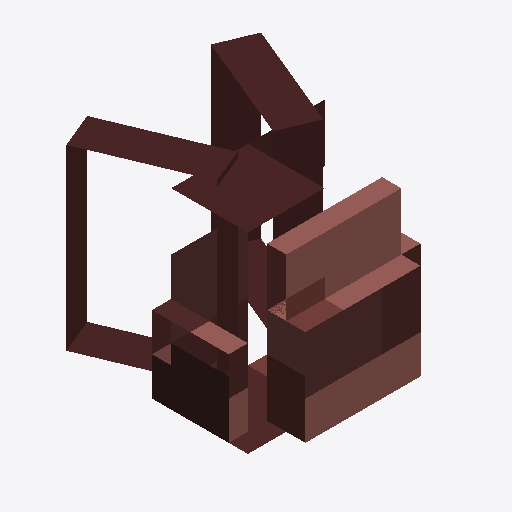
Isometric view (azimuth 45°, elevation 35.3°) of a Minecraft model made of 7 cuboids, textured from the same repository.
Parts seen in each view (by area): element 6, element 1, element 3, element 2, element 7, element 4.
Part boxes in pixels (left/top/right/bottom): element 6: left=267, top=255, right=420, bottom=442; element 1: left=66, top=116, right=237, bottom=374; element 3: left=171, top=100, right=324, bottom=453; element 2: left=211, top=33, right=322, bottom=327; element 7: left=267, top=177, right=400, bottom=320; element 4: left=152, top=299, right=247, bottom=442.
Bounding box in the file's own units: 10.14 × 10.3 × 11.15.